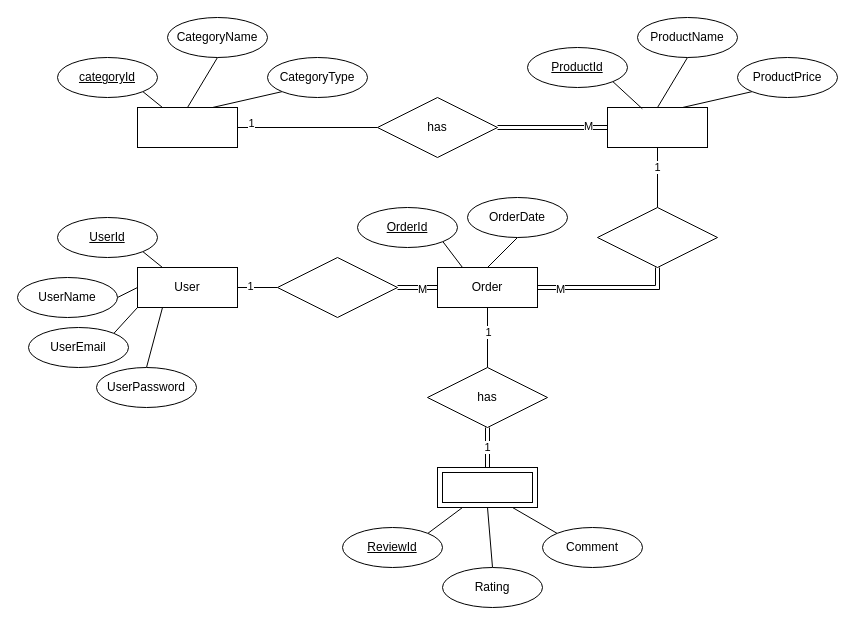
Image size: 855x625. Some labels were removed from this diagram. Here are the shapes that lost their labels. From the top down, the box of each, then its label:
(136, 106, 238, 148): Category
(606, 106, 708, 148): Product
(596, 206, 718, 268): contains
(276, 256, 398, 318): place
(436, 466, 538, 508): Review
